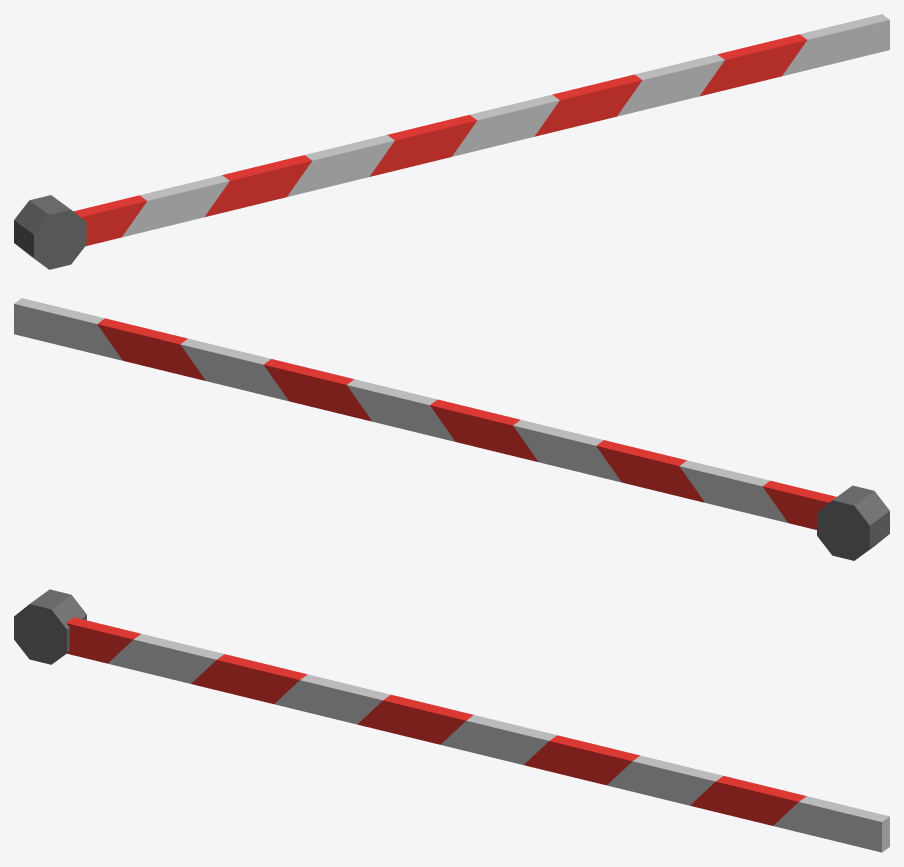
File: Parking_03_2.fbx
3 views of the same model, one above another, from view 1: azimuth 30°, elevation 25°; view 2: azimuth 150°, elevation 25°; view 3: azimuth 330°, elevation 25° (orthographic).
Parts seen in each view (by area): view 1: Parking_03_2; view 2: Parking_03_2; view 3: Parking_03_2.
Boxes of the visible parts, x1,y1,x2,y2 form: Parking_03_2: (14, 14, 889, 269); Parking_03_2: (14, 298, 889, 560); Parking_03_2: (14, 589, 889, 852).
Bounding box in the file's own units: 346 × 21.17 × 13.99.
